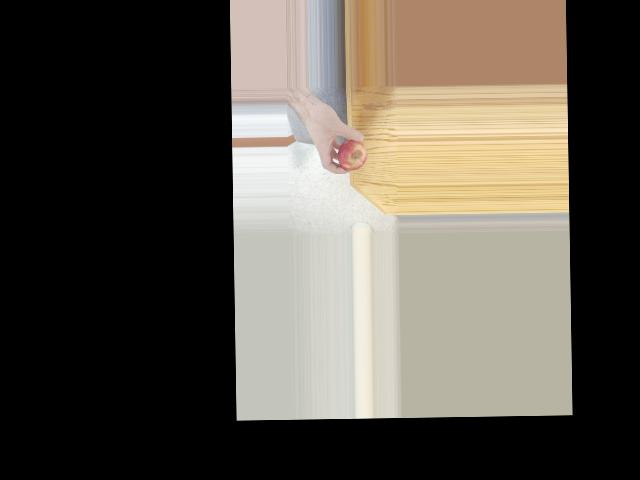apple: (337, 137, 367, 172)
